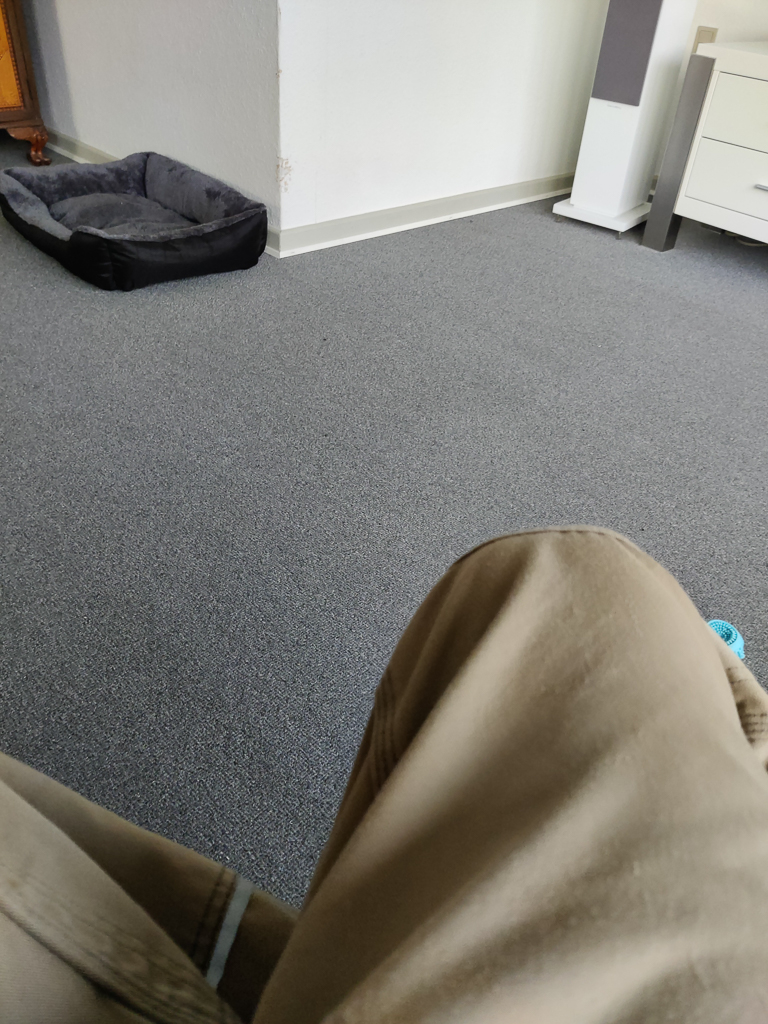Humanoid: (0, 512, 768, 1024)
